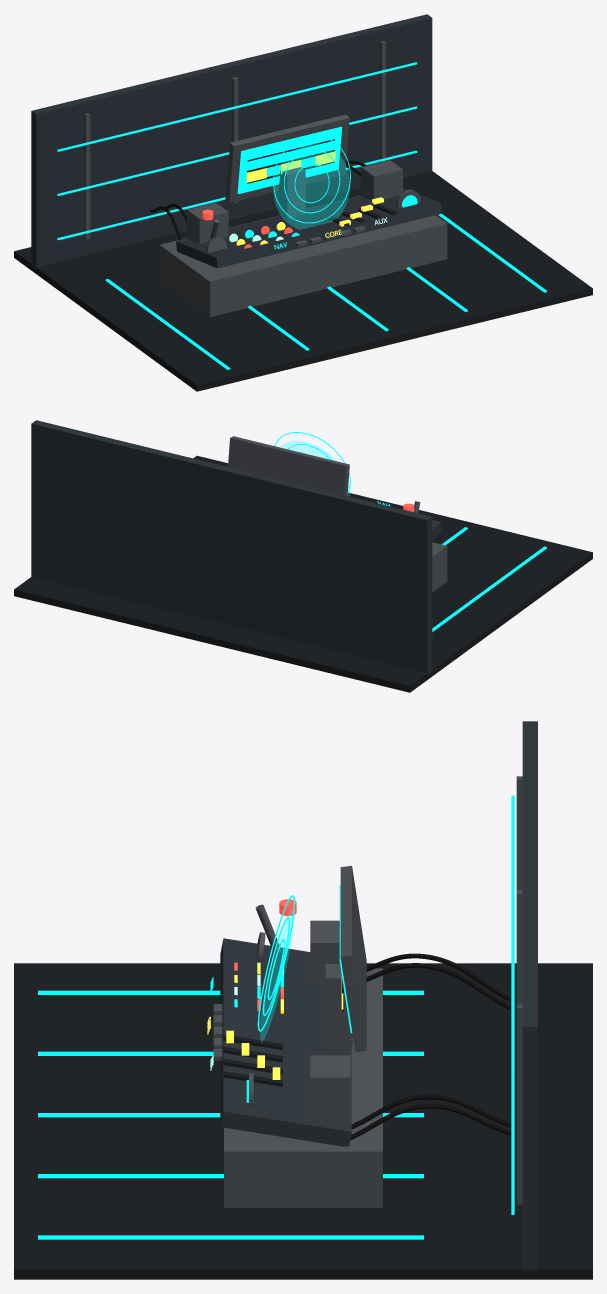
The model's file is sci_fi_console.glb.
3 views of the same model, one above another, from view 1: azimuth 30°, elevation 25°; view 2: azimuth 150°, elevation 25°; view 3: azimuth 270°, elevation 25° (orthographic). The views are drawn at different scales.
Visible parts, largest first — view 1: rear_wall, floor_plate, console_base, slanted_control_deck, floating_hologram_disc, main_blue_screen, main_screen_frame, right_support, screen_stem, left_support, wall_glow_line.002, wall_vertical_panel (+5 smaller); view 2: rear_wall, floor_plate, main_screen_frame, console_base, floor_light_strip, floating_hologram_disc; view 3: floor_plate, slanted_control_deck, console_base, rear_wall, main_screen_frame, right_support, floor_light_strip.004, screen_stem, left_support, wall_vertical_panel.002, floor_light_strip.003, wall_glow_line.002 (+10 smaller).
Boxes of the visible parts, x1=… form: rear_wall: x1=31, y1=14, x2=432, y2=268; floor_plate: x1=14, y1=171, x2=592, y2=391; console_base: x1=159, y1=195, x2=447, y2=316; slanted_control_deck: x1=176, y1=187, x2=441, y2=268; floating_hologram_disc: x1=274, y1=144, x2=349, y2=229; main_blue_screen: x1=237, y1=126, x2=342, y2=194; main_screen_frame: x1=225, y1=114, x2=349, y2=202; right_support: x1=361, y1=160, x2=402, y2=200; screen_stem: x1=278, y1=167, x2=305, y2=219; left_support: x1=187, y1=202, x2=228, y2=243; wall_glow_line.002: x1=57, y1=62, x2=417, y2=151; wall_vertical_panel: x1=84, y1=113, x2=90, y2=239; rear_wall: x1=31, y1=420, x2=432, y2=674; floor_plate: x1=14, y1=455, x2=592, y2=692; main_screen_frame: x1=228, y1=436, x2=349, y2=495; console_base: x1=432, y1=542, x2=447, y2=592; floor_light_strip: x1=432, y1=546, x2=546, y2=631; floating_hologram_disc: x1=280, y1=441, x2=349, y2=495; floor_plate: x1=14, y1=963, x2=592, y2=1279; slanted_control_deck: x1=220, y1=938, x2=351, y2=1146; console_base: x1=224, y1=968, x2=382, y2=1207; rear_wall: x1=522, y1=721, x2=537, y2=1271; main_screen_frame: x1=340, y1=865, x2=366, y2=1051; right_support: x1=310, y1=1055, x2=350, y2=1123; floor_light_strip.004: x1=38, y1=1235, x2=423, y2=1239; screen_stem: x1=325, y1=964, x2=352, y2=1048; left_support: x1=310, y1=920, x2=339, y2=984; wall_vertical_panel.002: x1=516, y1=1004, x2=522, y2=1204; floor_light_strip.003: x1=38, y1=1174, x2=423, y2=1178; wall_glow_line.002: x1=511, y1=795, x2=514, y2=1074.
Bounding box in the file's own units: 7.5 × 2.89 × 6.
